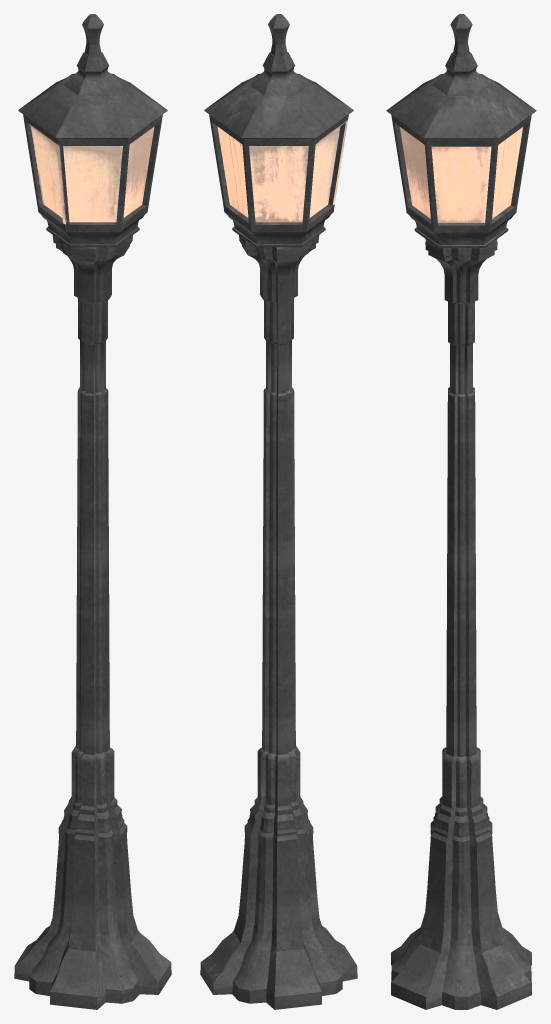
The model's file is lampadaire.glb.
The picture shows the model from 3 angles, left to right: view 1: azimuth 30°, elevation 25°; view 2: azimuth 150°, elevation 25°; view 3: azimuth 270°, elevation 25°; orthographic projection.
Visible parts, largest first — view 1: Street-Lantern_0; view 2: Street-Lantern_0; view 3: Street-Lantern_0.
Boxes of the visible parts, bbox=[...] form: Street-Lantern_0: bbox=[14, 14, 171, 1009]; Street-Lantern_0: bbox=[200, 14, 357, 1009]; Street-Lantern_0: bbox=[386, 14, 536, 1009].
Size of the model in its own units: 0.5376 by 4.06 by 0.573.
Materials: 1 (1 with a texture image).
